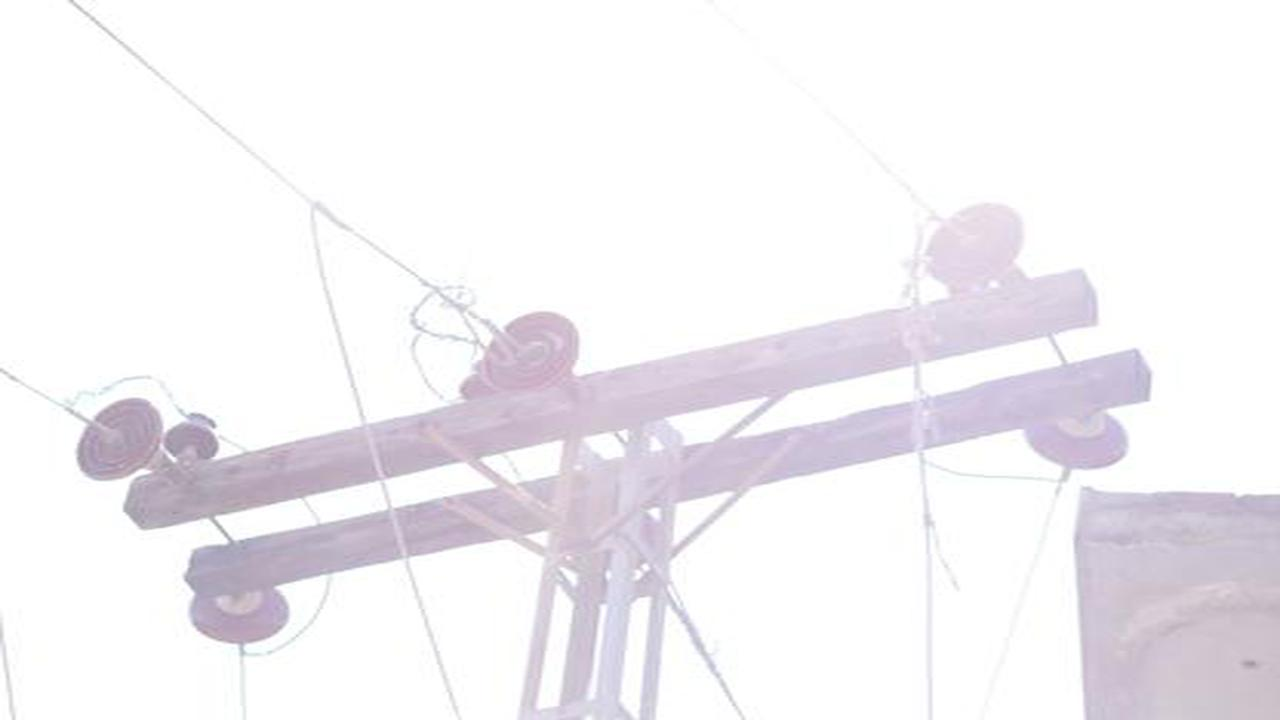insulator_disc: (921, 200, 1027, 295), (477, 305, 584, 399), (73, 393, 164, 482), (182, 576, 294, 646), (1022, 405, 1134, 474)
insulator_pin: (164, 407, 222, 462)
